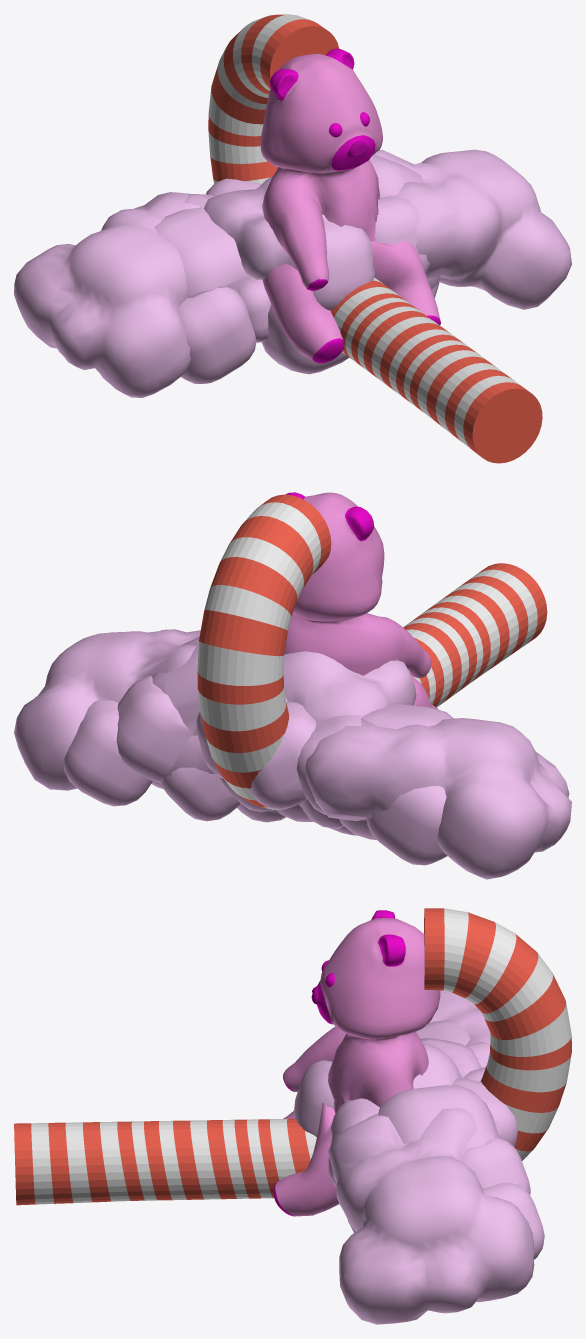
Rendered from DoobiCane.fbx.
The picture shows the model from 3 angles, top to bottom: view 1: azimuth 30°, elevation 25°; view 2: azimuth 150°, elevation 25°; view 3: azimuth 270°, elevation 25°; orthographic projection. The views are drawn at different scales.
Parts seen in each view (by area): view 1: polySurface7, pasted__polySurface495; view 2: polySurface7, pasted__polySurface495; view 3: polySurface7, pasted__polySurface495.
Boxes of the visible parts, <box> form: polySurface7: <box>14,14,571,463</box>; pasted__polySurface495: <box>260,48,440,363</box>; polySurface7: <box>14,494,571,879</box>; pasted__polySurface495: <box>284,492,437,709</box>; polySurface7: <box>14,908,571,1324</box>; pasted__polySurface495: <box>273,910,440,1216</box>.
Bounding box in the file's own units: 27.22 × 16.23 × 26.2.
